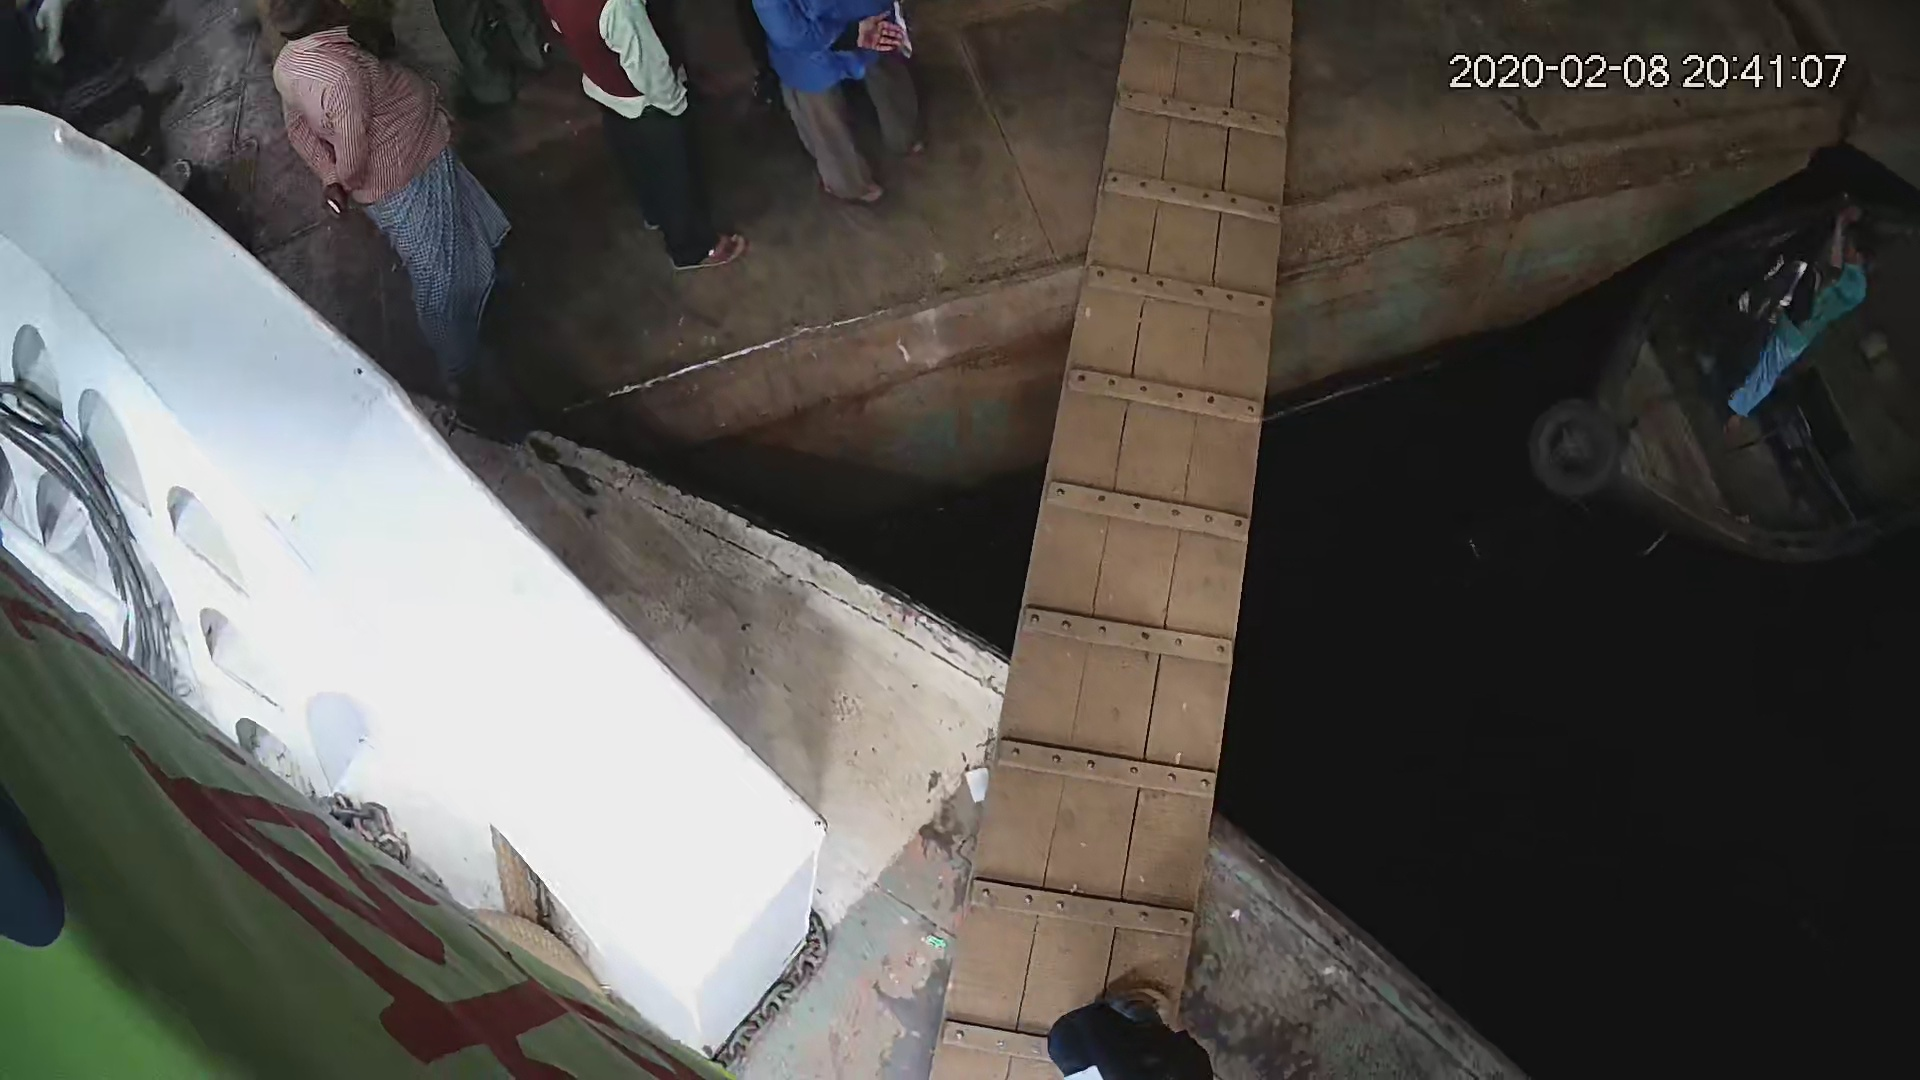person: (244, 3, 517, 403), (532, 1, 746, 282), (1690, 195, 1886, 436)
